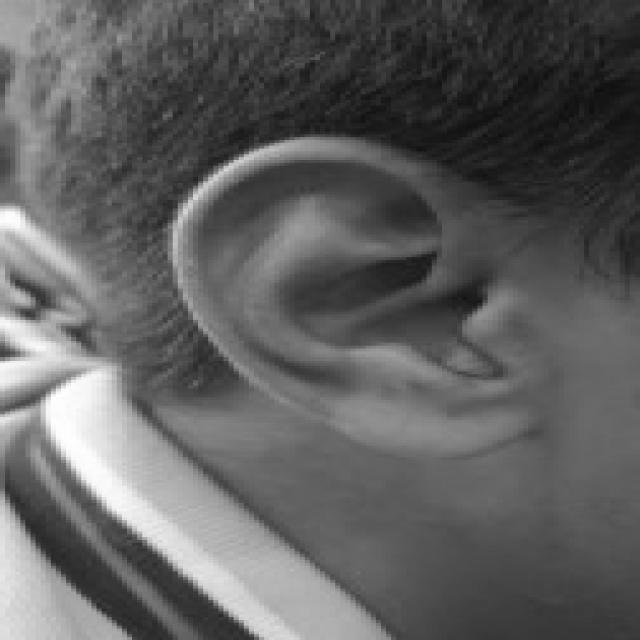ear: (178, 140, 528, 451)
